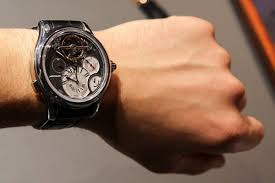clock: (43, 28, 110, 103)
